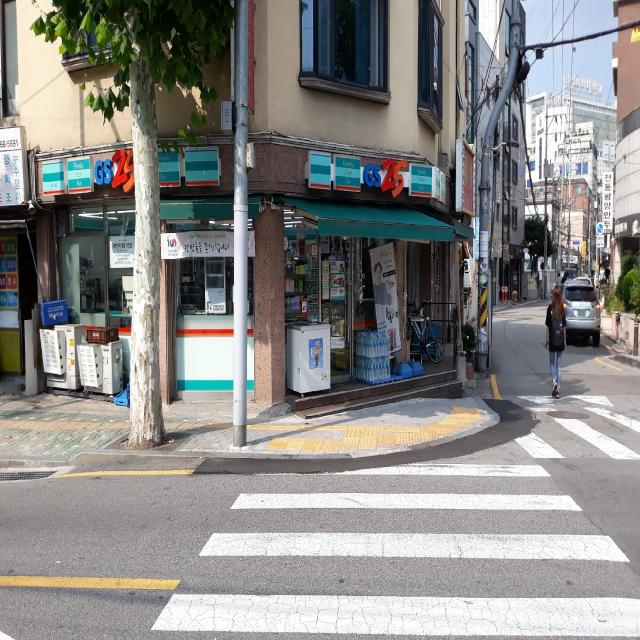횡단보도: (151, 464, 640, 638)
